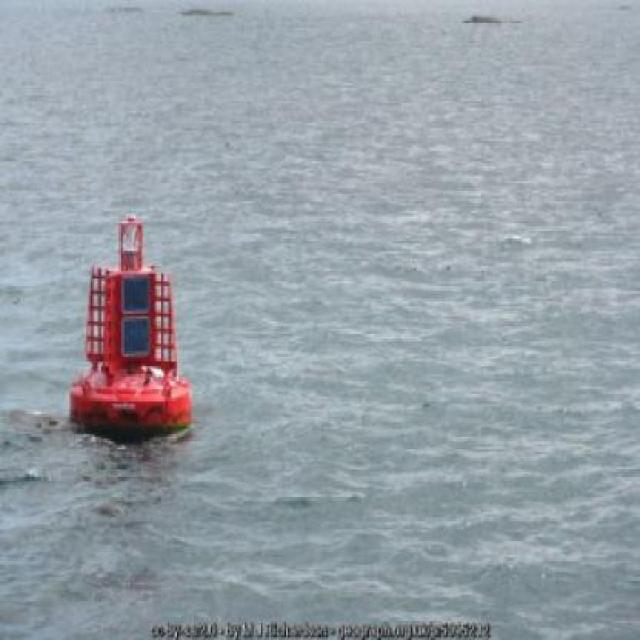buoy: (65, 202, 199, 453)
